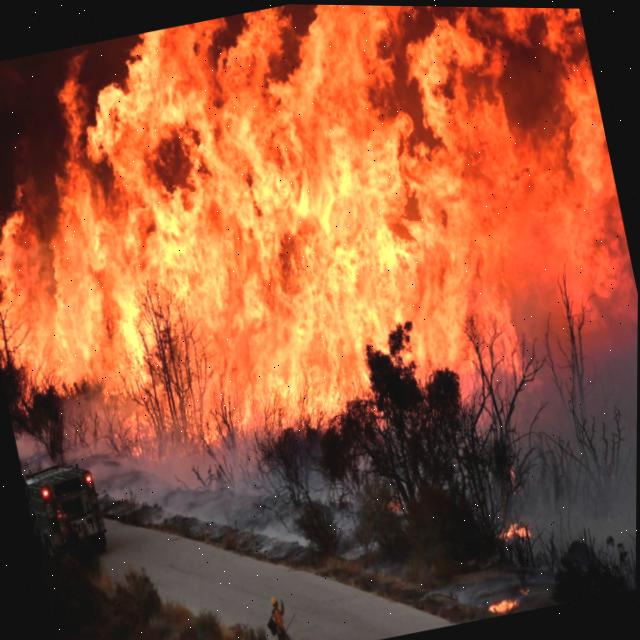fire: (0, 3, 637, 433)
smoke: (13, 310, 638, 607)
